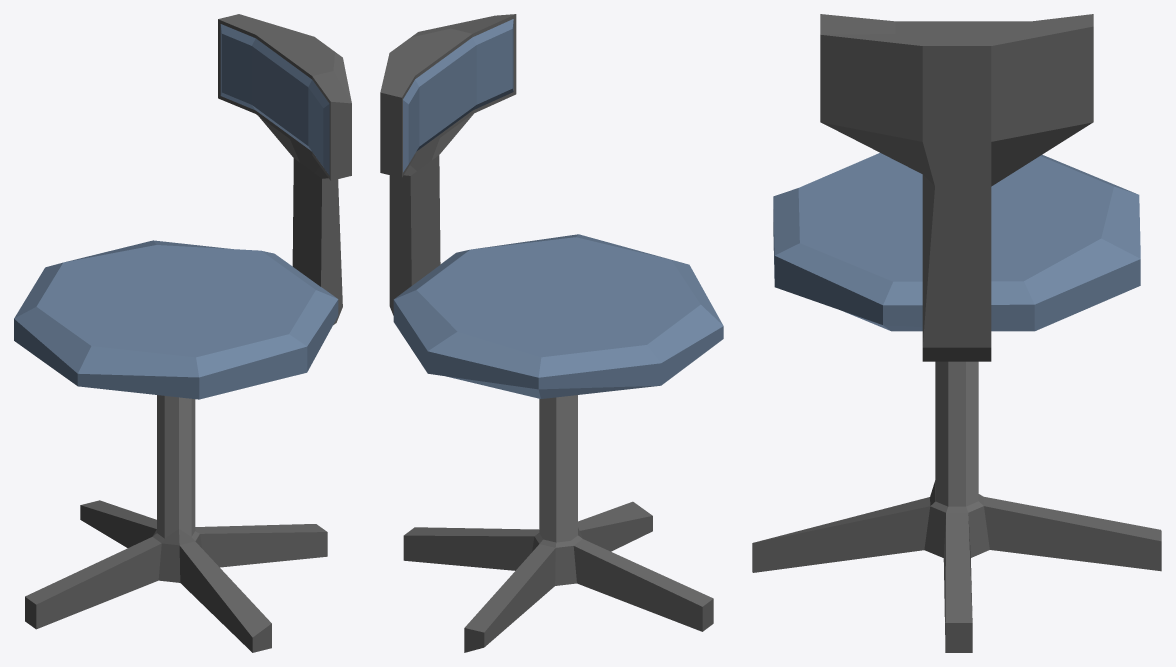
File: Chair.fbx
The picture shows the model from 3 angles, left to right: view 1: azimuth 30°, elevation 25°; view 2: azimuth 150°, elevation 25°; view 3: azimuth 270°, elevation 25°; orthographic projection. The views are drawn at different scales.
Visible parts, largest first — view 1: Cylinder; view 2: Cylinder; view 3: Cylinder.
Part boxes in pixels (left/top/right/bottom): Cylinder: left=14, top=14, right=351, bottom=652; Cylinder: left=380, top=14, right=723, bottom=652; Cylinder: left=752, top=14, right=1161, bottom=652.
Size of the model in its own units: 413 by 666 by 405.
